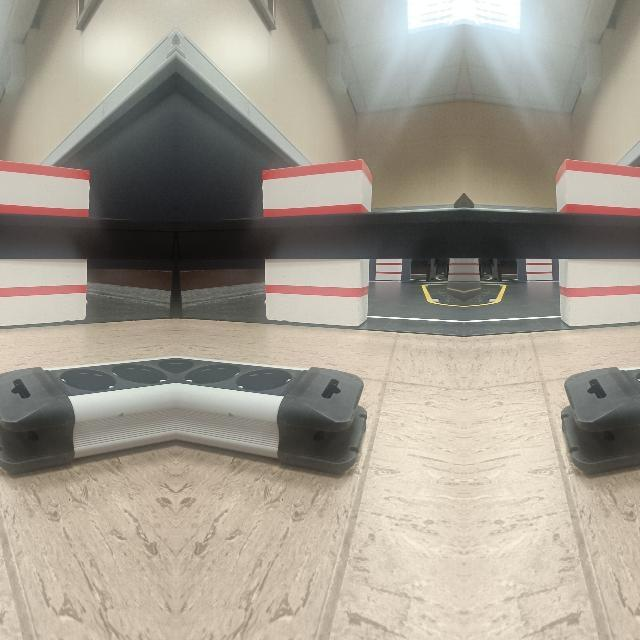obstacle: (175, 354, 368, 476), (0, 354, 175, 475), (559, 354, 640, 475)
